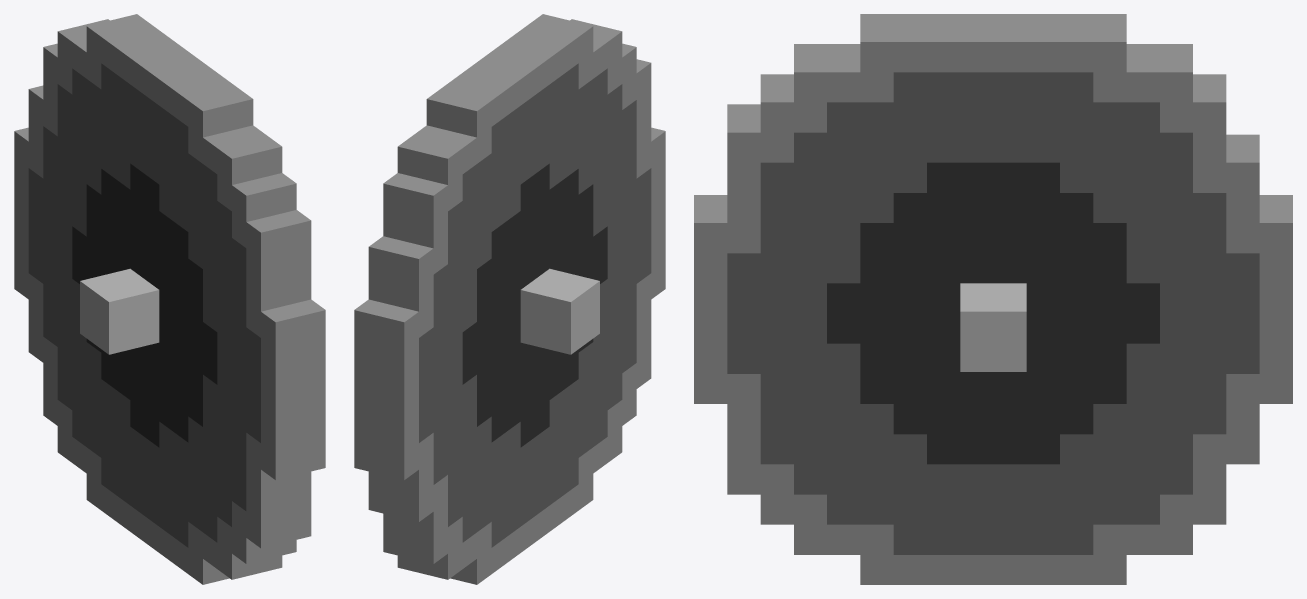
Rendered from sierra.obj.
3 renders of one model, left to right at view 1: azimuth 30°, elevation 25°; view 2: azimuth 150°, elevation 25°; view 3: azimuth 270°, elevation 25°, orthographic. The views are drawn at different scales.
Bounding box in the file's own units: 0.6 × 1.8 × 1.8.
1 material, 1 textured.
